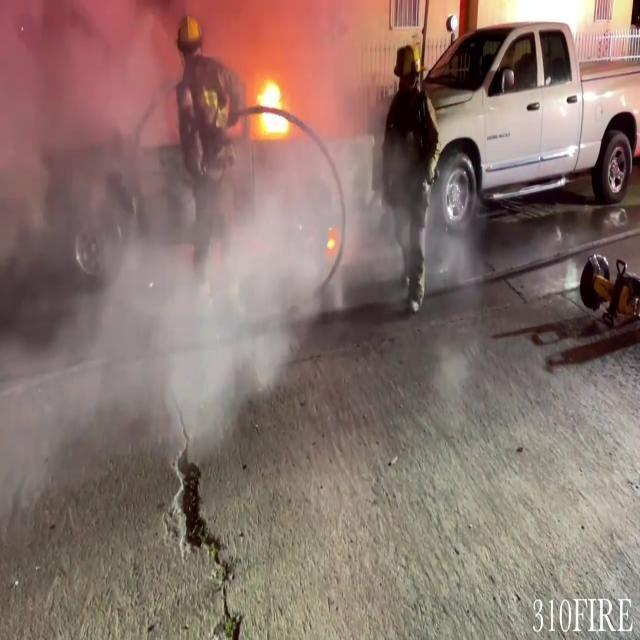Fire: (250, 66, 296, 142)
Smoke: (0, 0, 410, 448)
